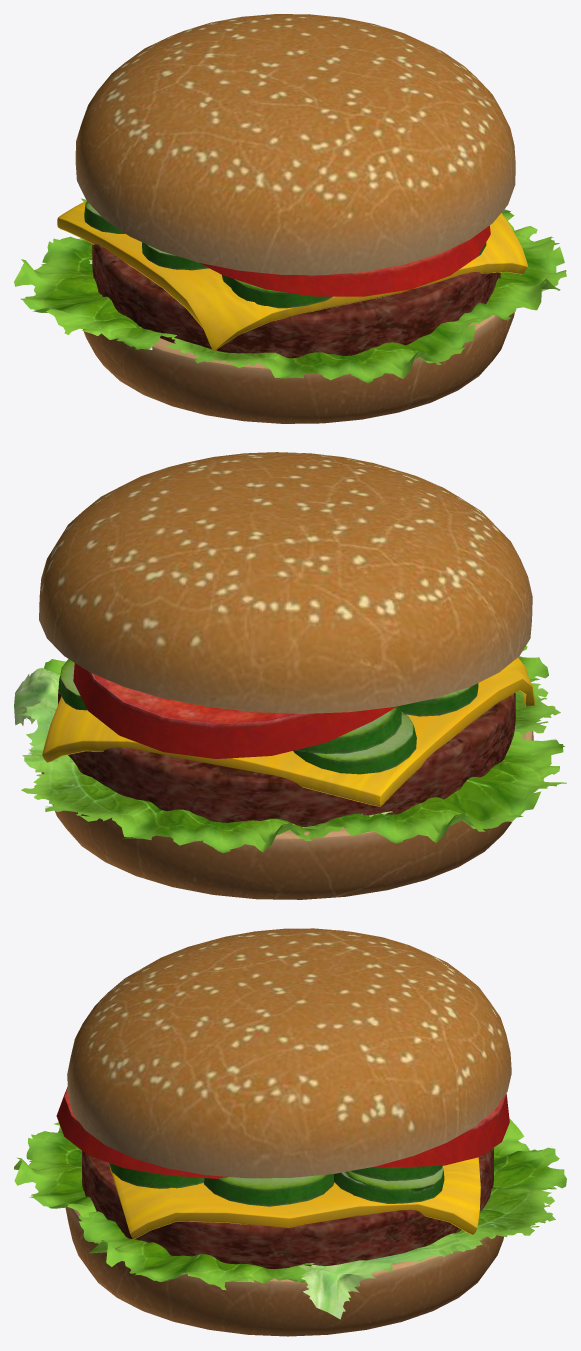
The model's file is burger.glb.
The picture shows the model from 3 angles, top to bottom: view 1: azimuth 30°, elevation 25°; view 2: azimuth 150°, elevation 25°; view 3: azimuth 270°, elevation 25°; orthographic projection. The views are drawn at different scales.
Parts seen in each view (by area): view 1: bun, vegeis, pPlane16, pPlane17, pPlane14; view 2: bun, vegeis, pPlane15, pPlane16, pPlane17; view 3: bun, vegeis, pPlane15, pPlane14, pPlane17.
Part boxes in pixels (x1,y1,x2,y2): bun: (57, 14, 527, 423); vegeis: (84, 201, 490, 308); pPlane16: (14, 236, 176, 349); pPlane17: (89, 254, 481, 383); pPlane14: (456, 210, 566, 323); bun: (39, 452, 534, 899); vegeis: (59, 659, 478, 774); pPlane15: (14, 667, 362, 853); pPlane16: (298, 731, 566, 843); pPlane17: (369, 645, 560, 818); bun: (65, 928, 511, 1336); vegeis: (56, 1086, 509, 1206); pPlane15: (299, 1118, 566, 1319); pPlane14: (78, 1210, 314, 1290); pPlane17: (14, 1122, 95, 1217).
Bounding box in the file's own units: 4.7 × 2.73 × 4.75.
3 materials, 3 textured.
